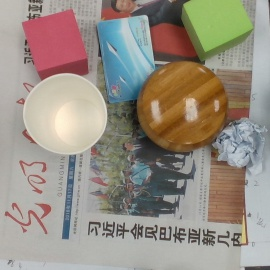card: (95, 13, 158, 102)
chess: (137, 60, 227, 152)
cup: (23, 73, 108, 158)
